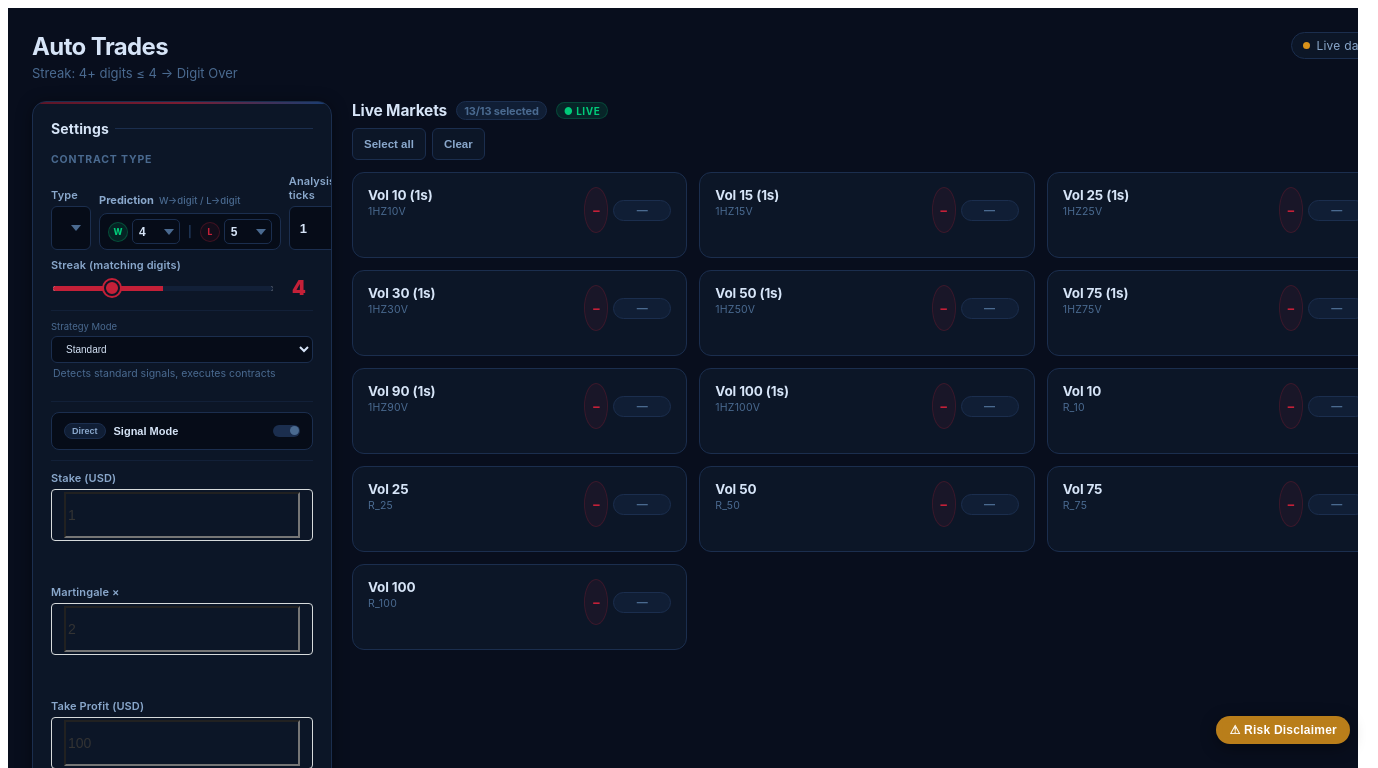
Test case: <AutoTrades /> › shows analysis ticks control for all trade types
This screenshot has width=1378, height=768.
Select "Only Ups" in the 1st dropdown at (71, 228), box [51,206,91,250]
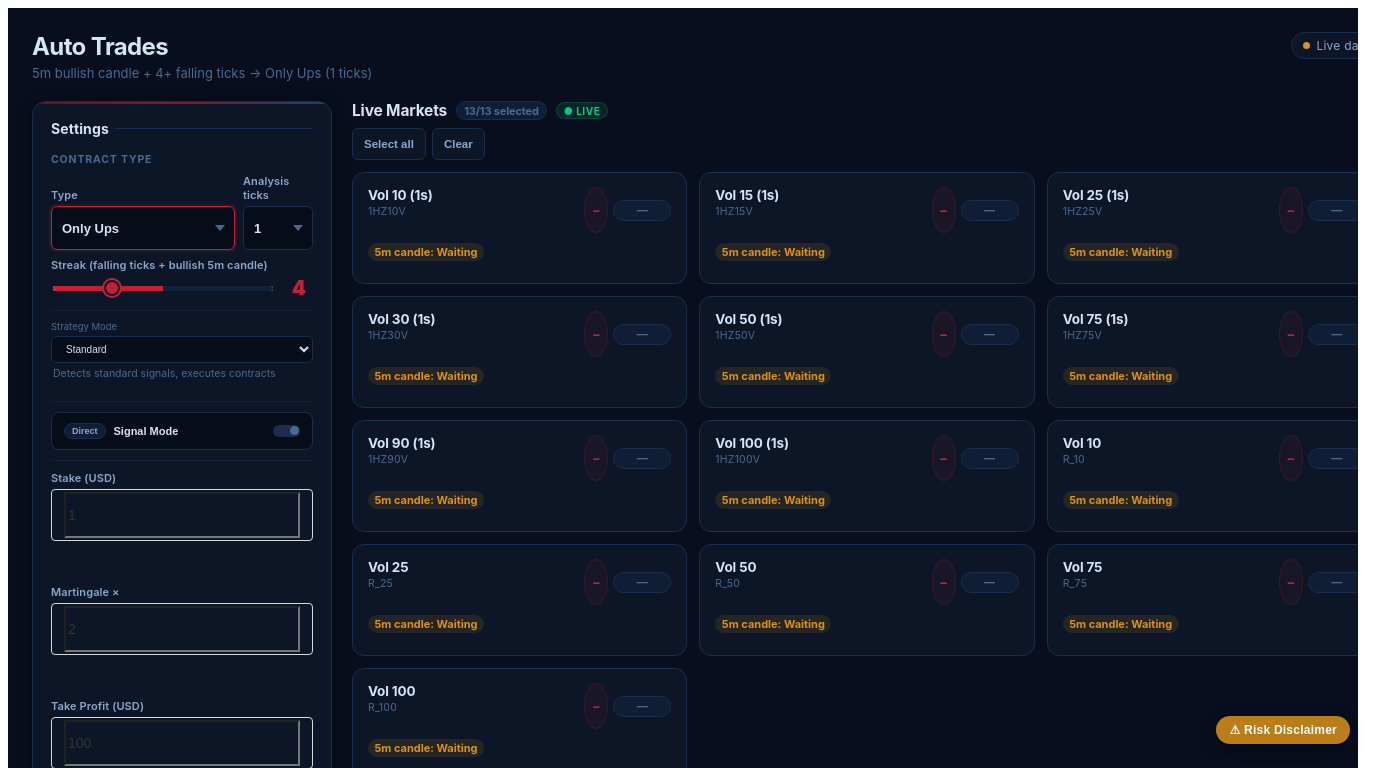
Result: the text "5m bullish candle + 4+ falling ticks → Only Ups (1 ticks)" is shown at [32,65,372,81]
Result: the text "Streak (falling ticks + bullish 5m candle)" is shown at [51,258,268,272]
Select "3" in the dropdown below "Analysis ticks" at (278, 228), box [243,206,313,250]
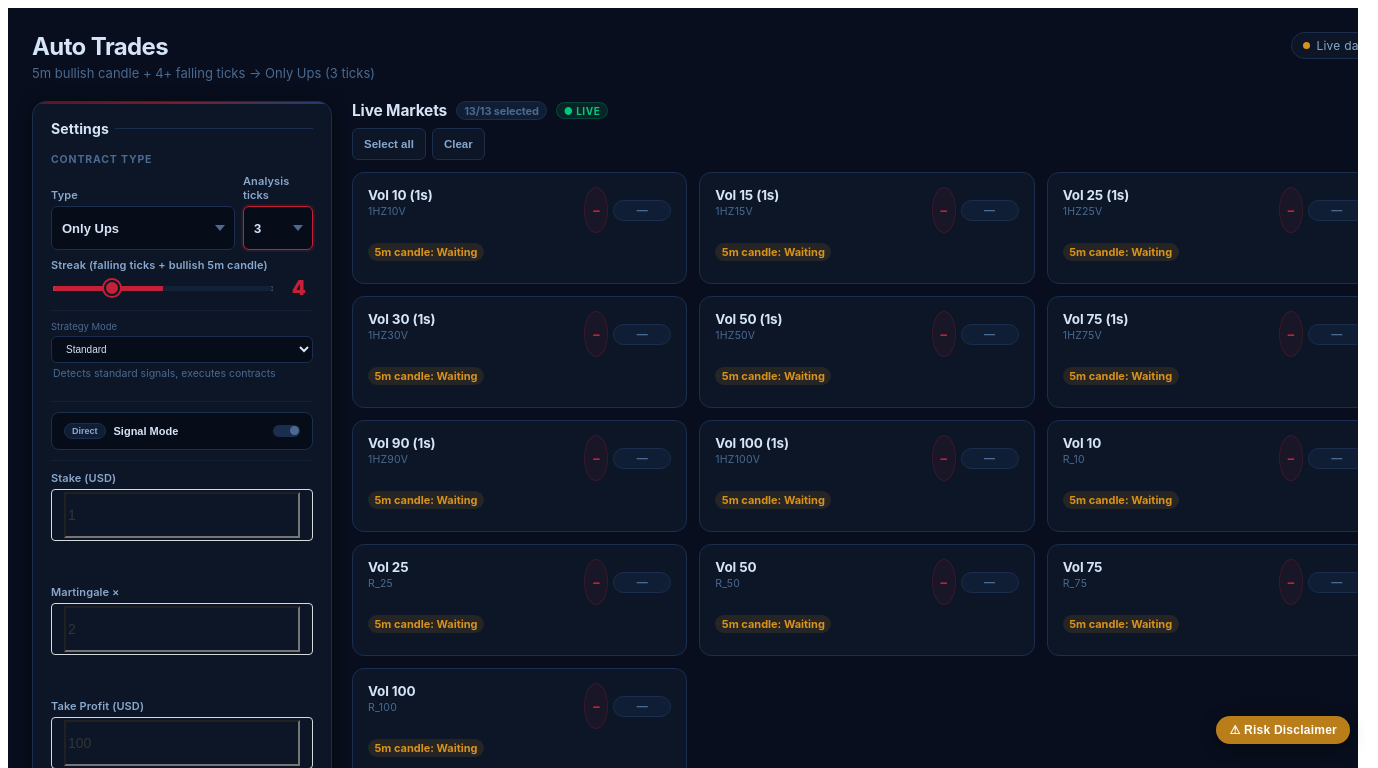
Result: the text "5m bullish candle + 4+ falling ticks → Only Ups (3 ticks)" is shown at [32,65,375,81]
Select "Only Downs" in the 1st dropdown at (143, 228), box [51,206,235,250]
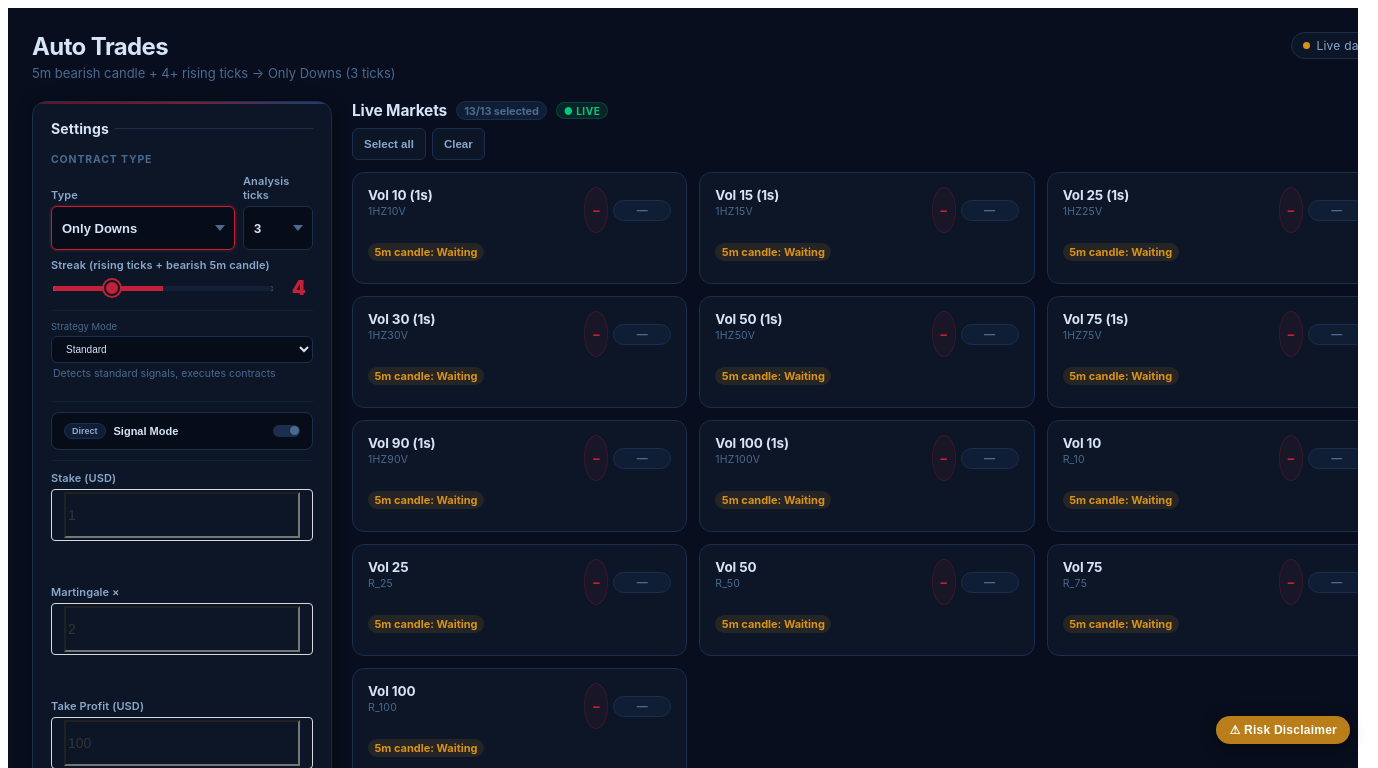
Result: the text "5m bearish candle + 4+ rising ticks → Only Downs (3 ticks)" is shown at [32,65,396,81]
Result: the text "Streak (rising ticks + bearish 5m candle)" is shown at [51,258,270,272]
